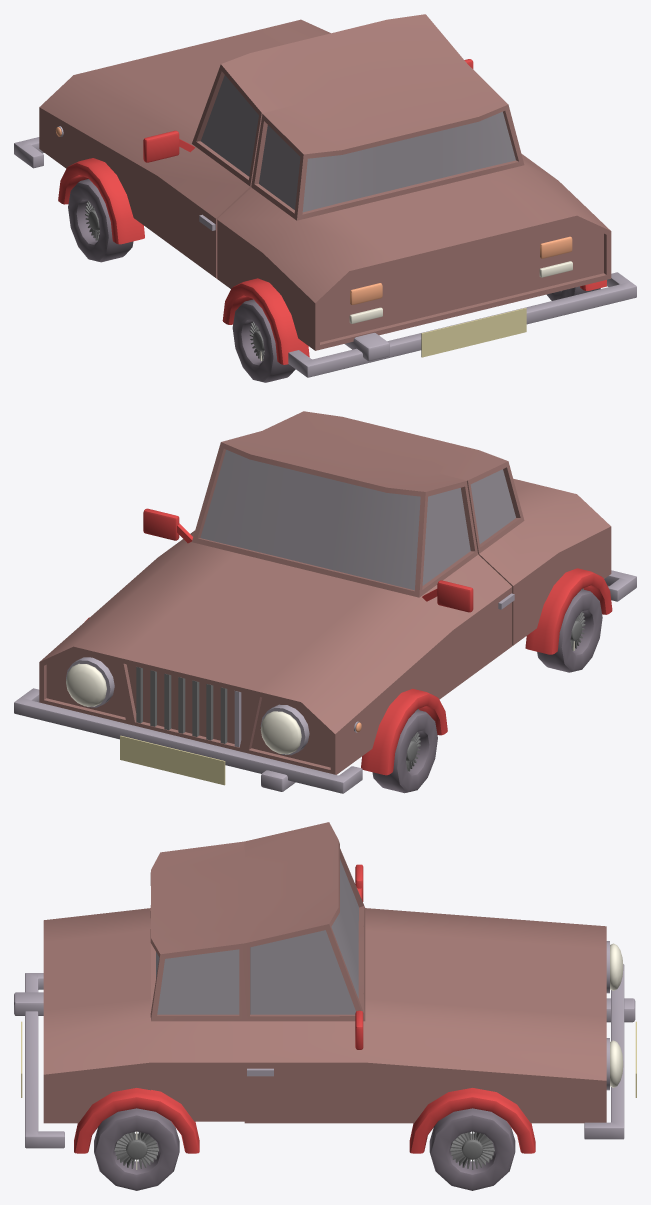
File: car_fired.fbx
3 views of the same model, one above another, from view 1: azimuth 30°, elevation 25°; view 2: azimuth 150°, elevation 25°; view 3: azimuth 270°, elevation 25° (orthographic).
Visible parts, largest first — view 1: Car, Cube_5_4, Tube, Tube_1_2, Tube_1, Tube_2, License_plate_BACK, light_000, miror, BACK_bumper, light_00, Cube_5; view 2: Car, Cube_5, Tube_1_2, Tube_1, Sphere, Tube_2, Tube, License_plate_FRONT, miror, Cylinder, Cube_5_4; view 3: Car, Tube_2, Tube, Tube_1, Tube_1_2, Cube_5_4, Cube_5, Sphere, BACK_bumper, miror.
Part boxes in pixels (x1,y1,x2,y2): Car: (39,14,611,350); Cube_5_4: (288,272,636,377); Tube: (232,286,600,382); Tube_1_2: (58,158,144,244); Tube_1: (222,278,606,364); Tube_2: (68,179,133,262); License_plate_BACK: (421,308,526,357); light_000: (350,236,572,304); miror: (143,59,473,162); BACK_bumper: (344,333,389,361); light_00: (349,261,572,323); Cube_5: (14,137,44,168); Car: (39,411,611,774); Cube_5: (14,688,362,793); Tube_1_2: (85,617,447,775); Tube_1: (525,568,612,654); Sphere: (66,663,301,754); Tube_2: (372,709,437,793); Tube: (537,589,602,672); License_plate_FRONT: (120,735,225,785); miror: (143,508,473,612); Cylinder: (66,657,309,755); Cube_5_4: (604,570,636,601); Car: (43,822,606,1123); Tube_2: (429,1108,515,1190); Tube: (94,1108,179,1190); Tube_1: (74,1088,199,1153); Tube_1_2: (409,1088,535,1153); Cube_5_4: (25,973,64,1148); Cube_5: (584,964,624,1139); Sphere: (610,943,623,1087); BACK_bumper: (14,992,43,1015); miror: (355,864,363,1049).
Bounding box in the file's own units: 291 × 195 × 465.
